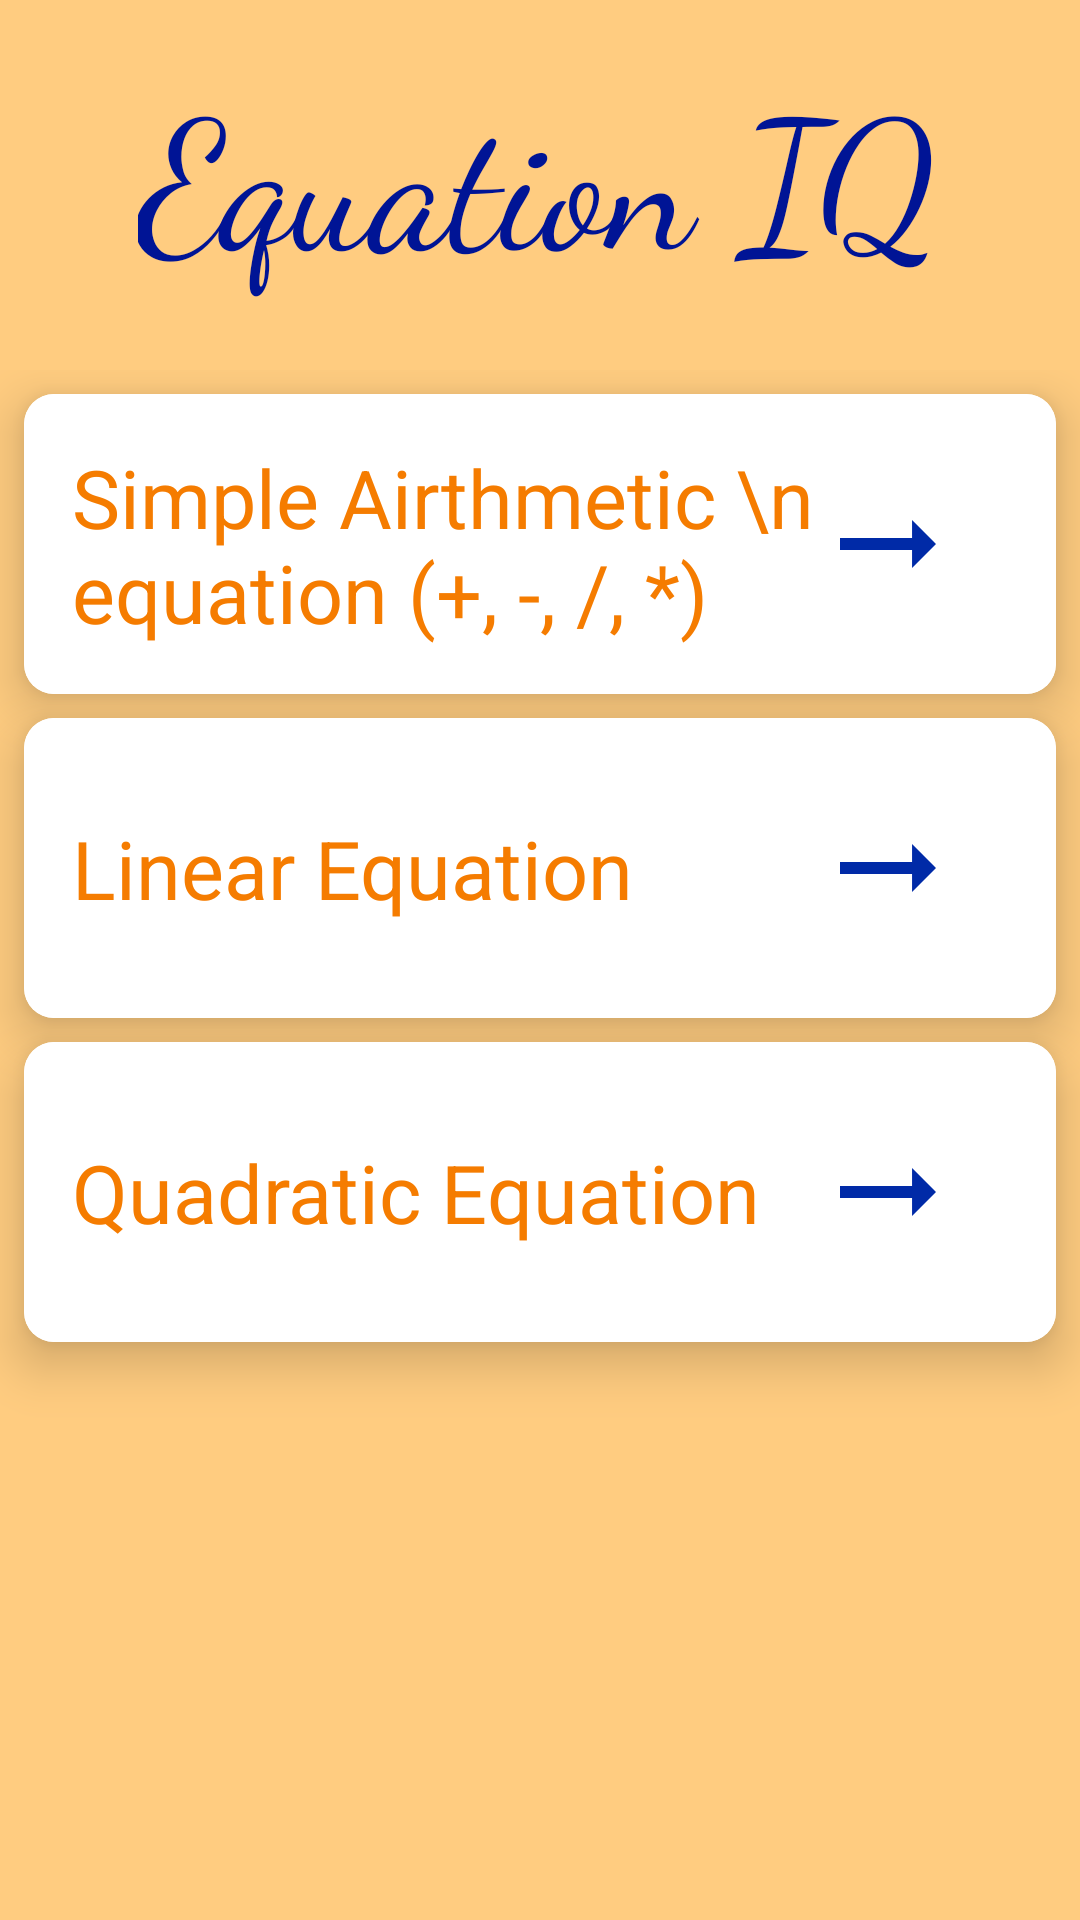

Icon bounding boxes for this 1080*1920 phone screenshot, format Rect(x1, y1, x2, y2):
arrow right: Rect(840, 520, 936, 568), Rect(840, 844, 936, 892), Rect(840, 1168, 936, 1216)
